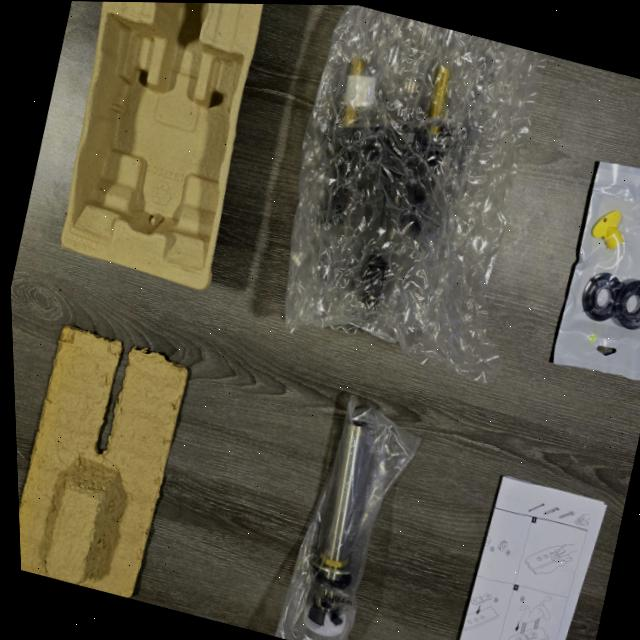11: (273, 391, 418, 640)
12: (551, 161, 640, 380)
8: (457, 476, 605, 640)
9c: (283, 5, 545, 382)
